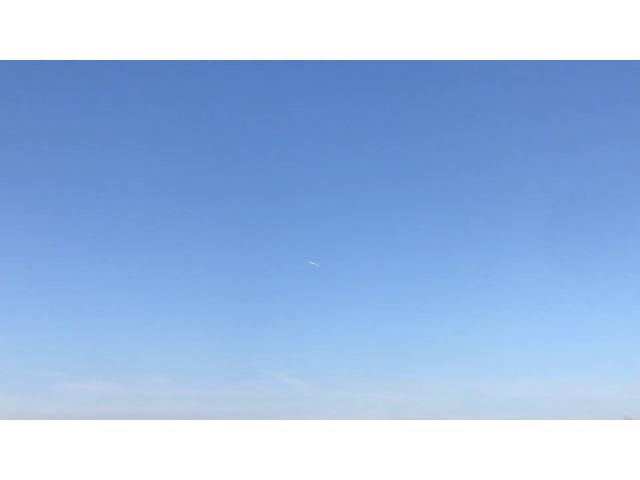Anti-Drone: (296, 251, 328, 273)
